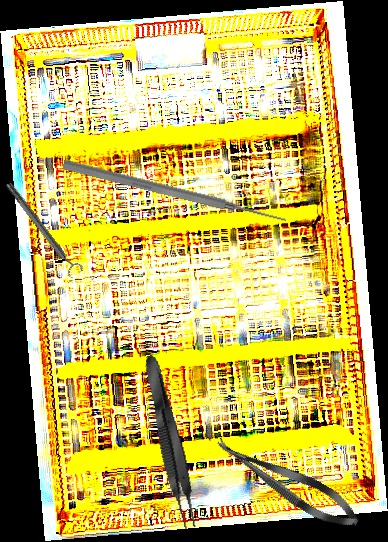Fixation Ring: (1, 178, 85, 280)
Micro Scissor: (209, 427, 366, 538)
Pusher: (61, 157, 288, 228)
Tissue Forceps: (138, 352, 203, 531)
